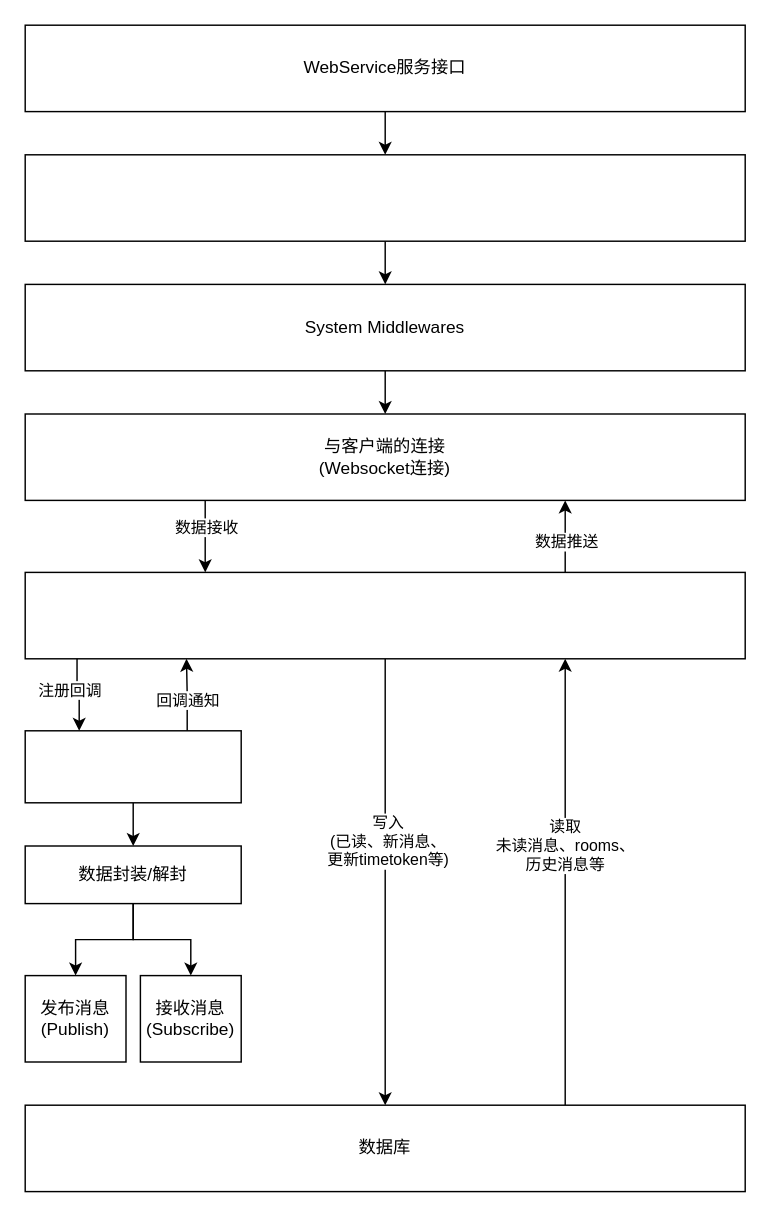
This 770x1217 diagram has some shape labels left out. Each missing label, with the box of its shape:
System Authentication: (24, 153, 745, 241)
处理中间件: (24, 571, 745, 659)
通讯协议接口 (Pubnub或Firebase): (24, 729, 241, 803)
